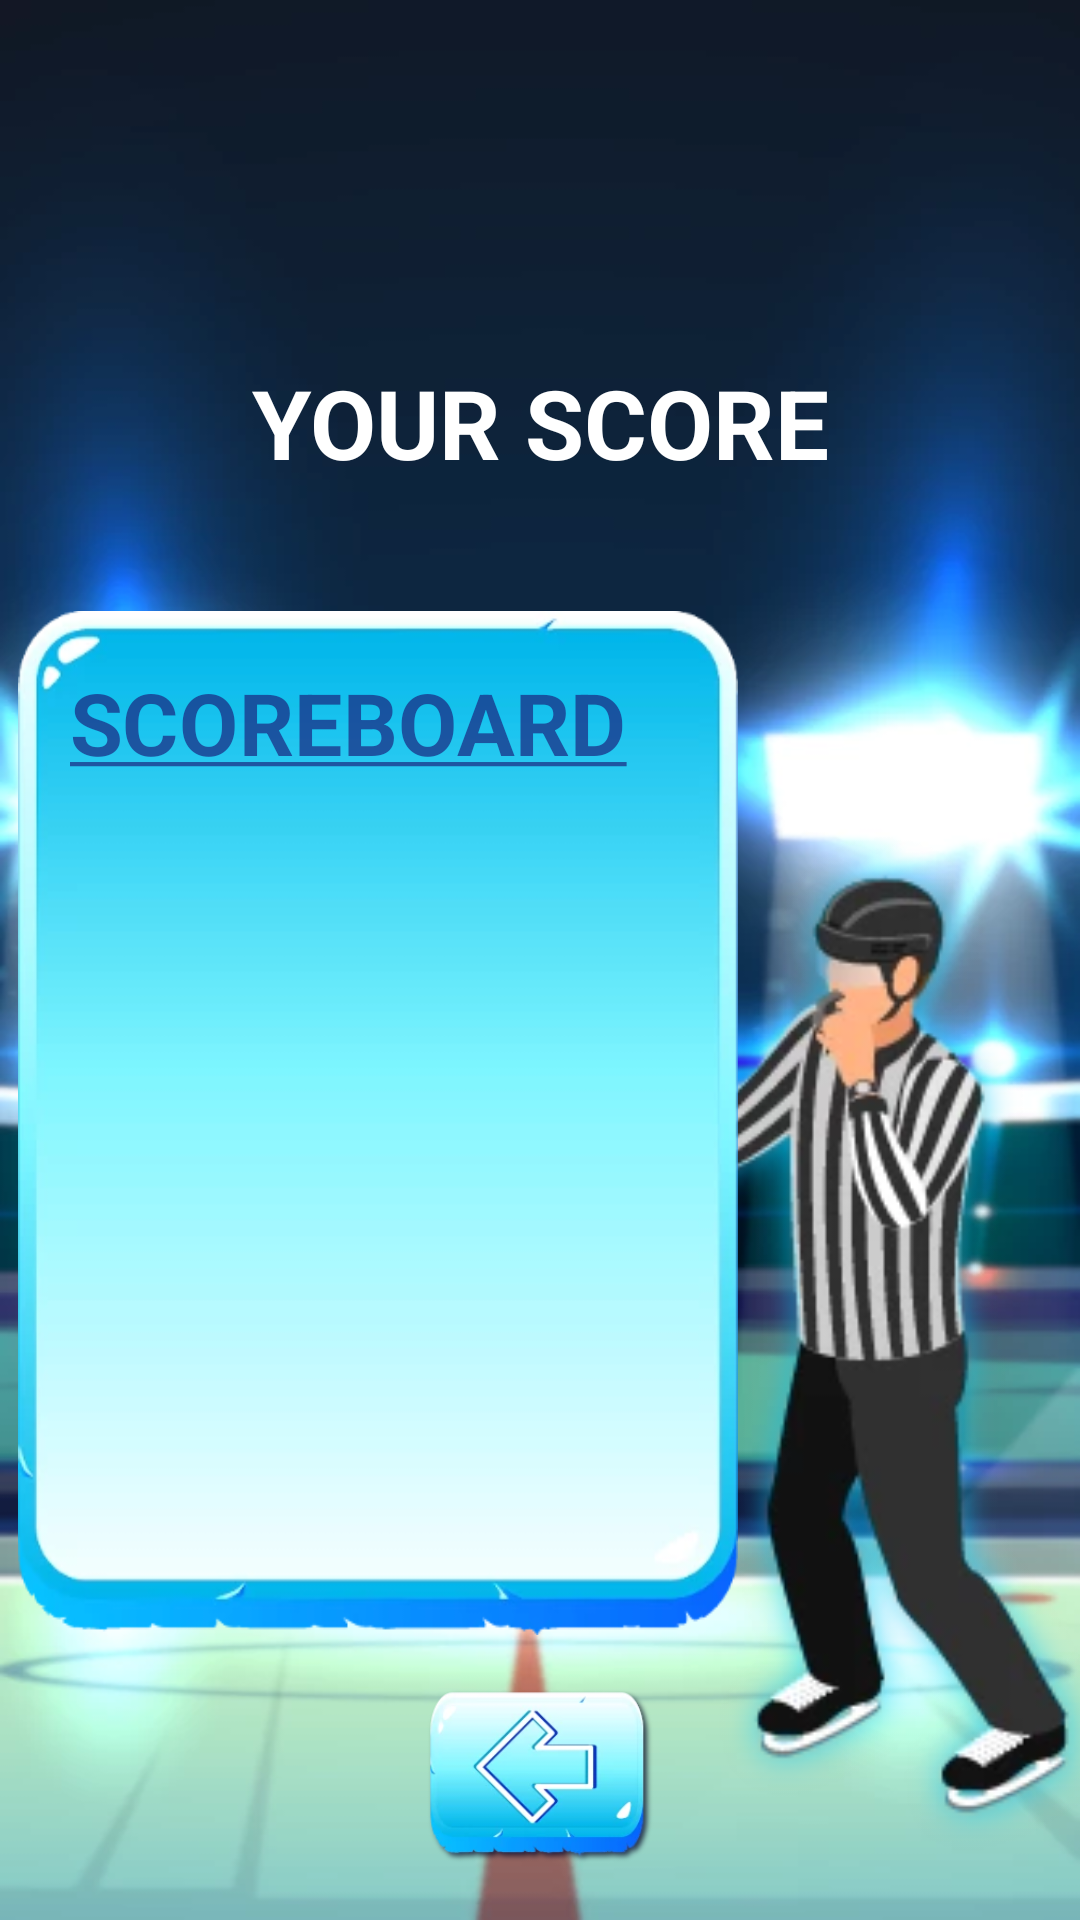

Named icons in this screenshot (1080 x 1920) and their centers, [x,y]:
back: [540,1778]
